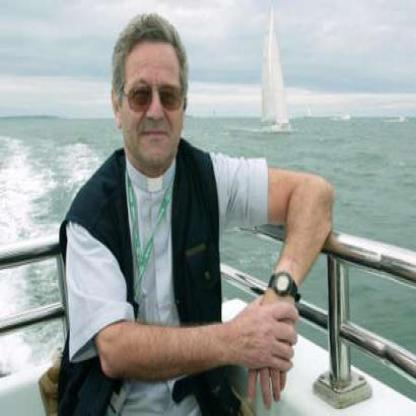face: (121, 27, 187, 172)
